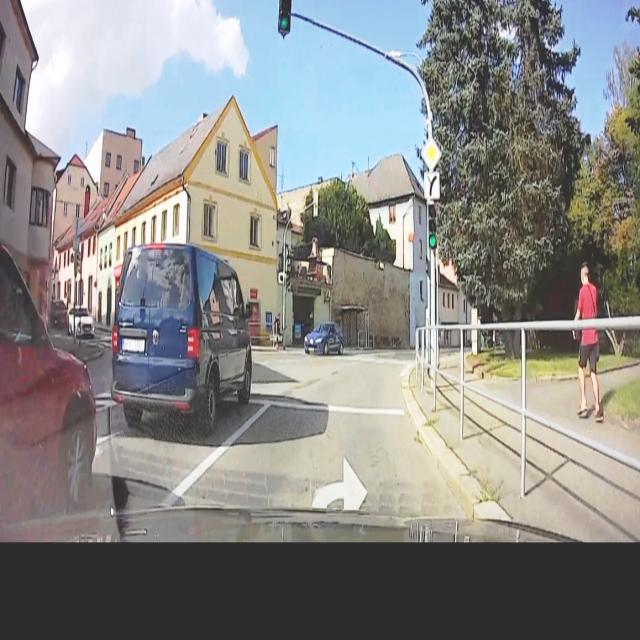Priority road: (420, 135, 442, 172)
